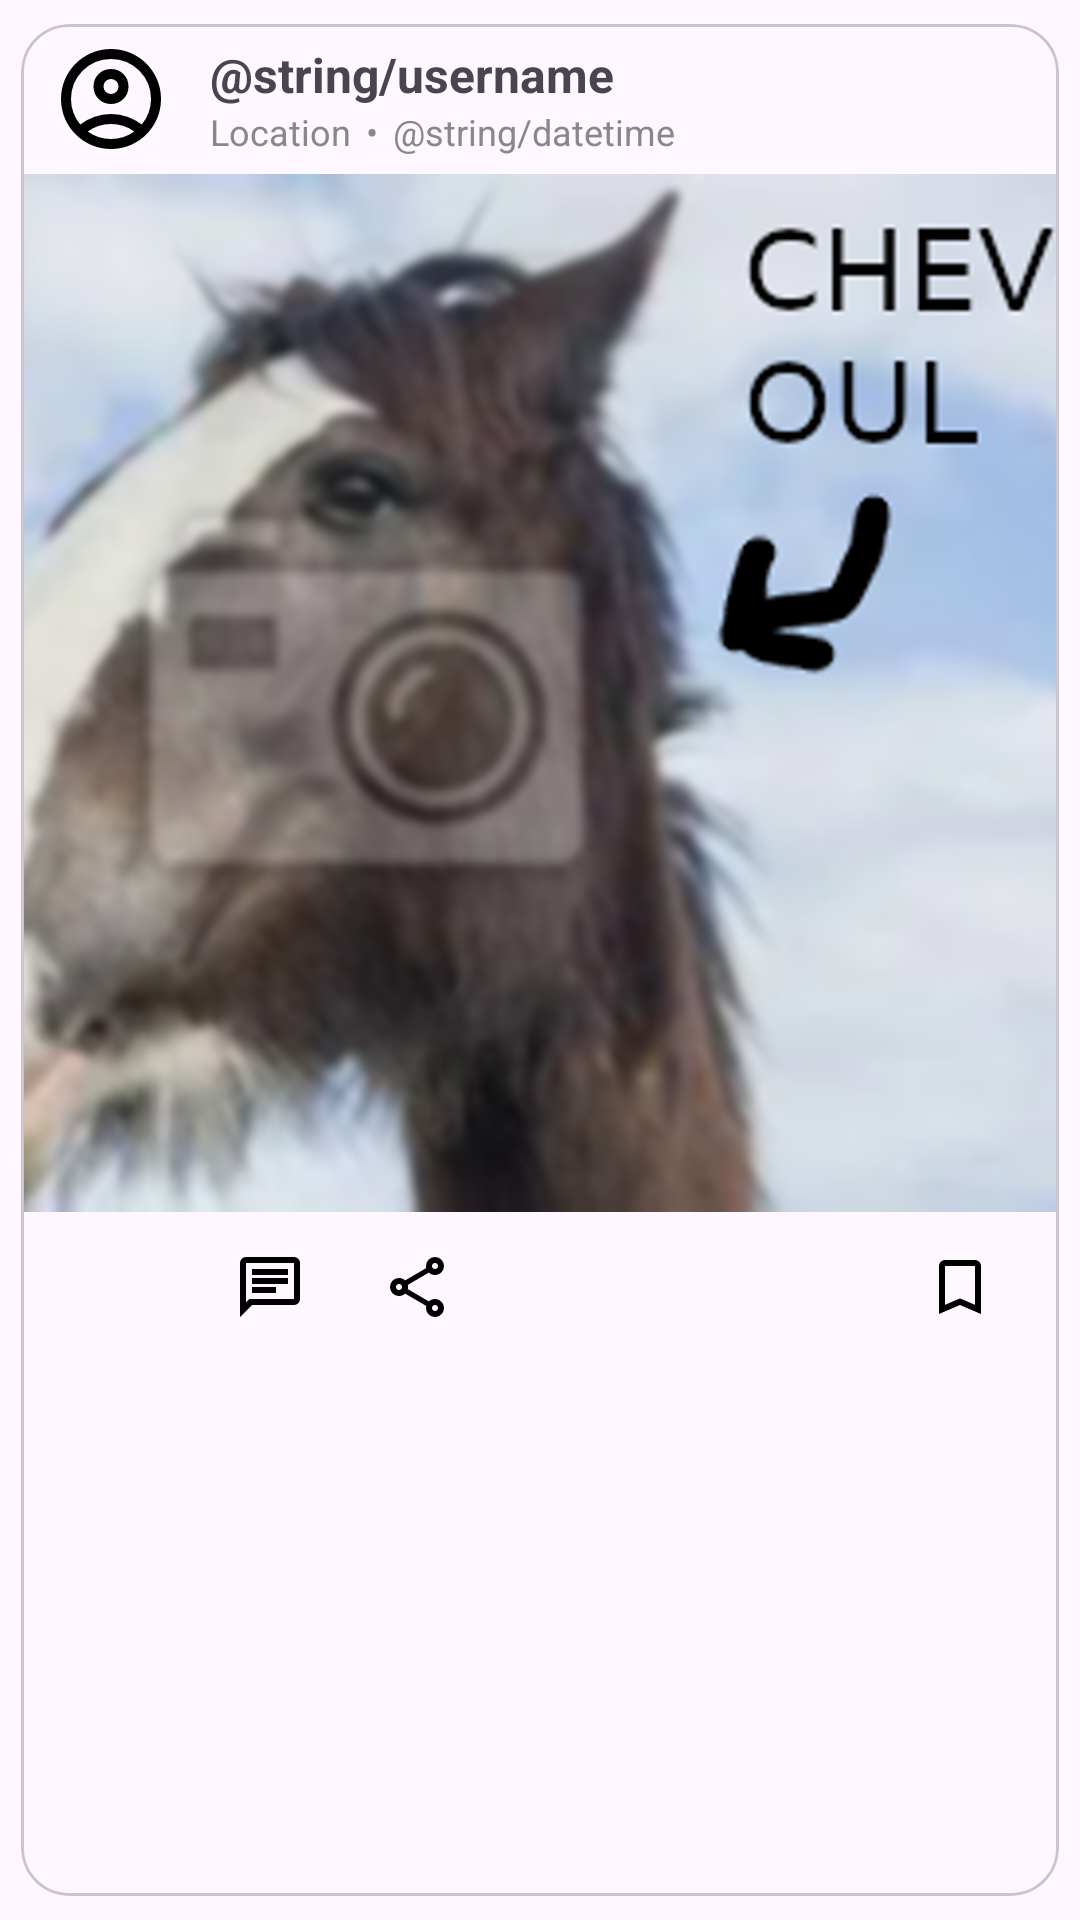

Point at icon controls on the screen. Image size 1080px x 1920px, points as (x=x, y=y).
Comment: (x=270, y=1287)
Profile Picture: (x=111, y=99)
Save: (x=960, y=1287)
Share: (x=417, y=1287)
